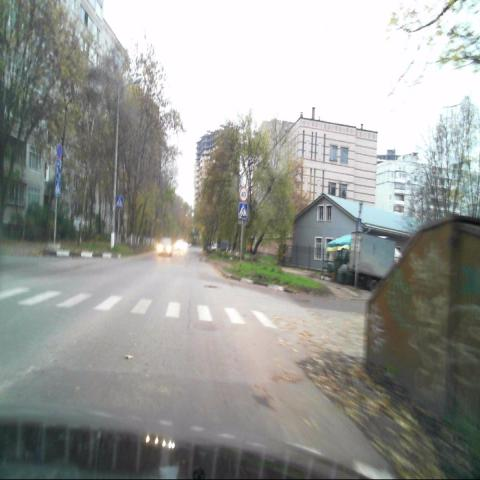3_24: (240, 188, 248, 201)
3_28: (57, 141, 65, 158)
5_19_1: (238, 203, 248, 219), (117, 194, 125, 210), (55, 177, 62, 195)
5_21: (57, 158, 63, 175)
